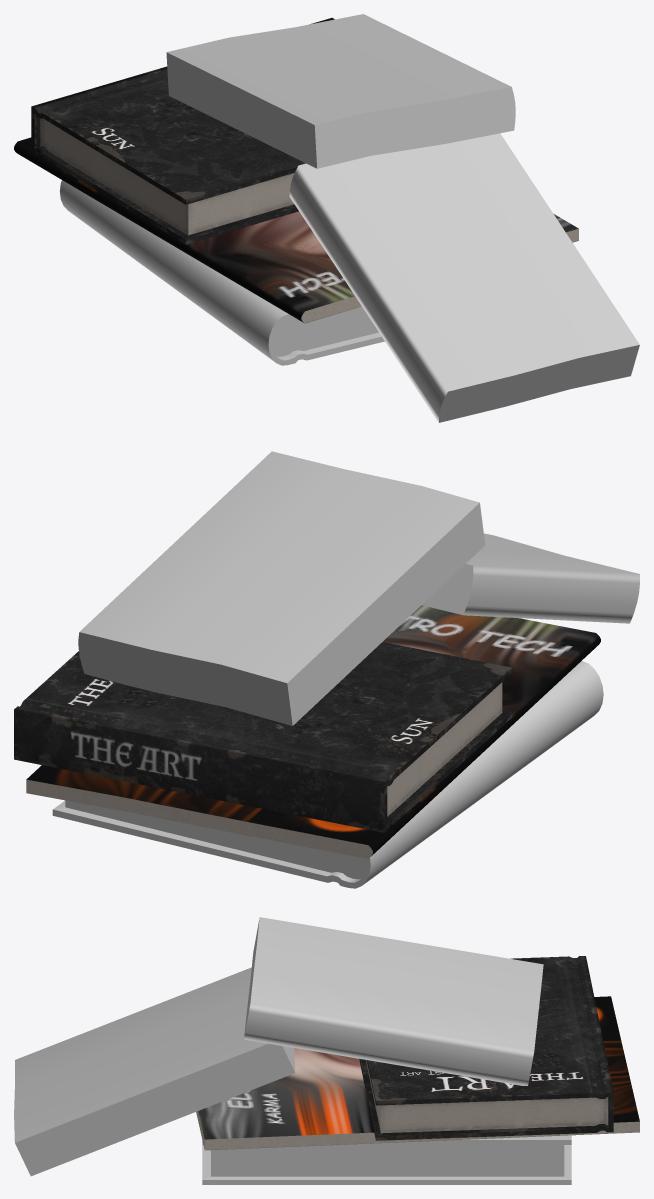
The model's file is SM_Book_Stack_05.FBX.
3 views of the same model, one above another, from view 1: azimuth 30°, elevation 25°; view 2: azimuth 150°, elevation 25°; view 3: azimuth 270°, elevation 25° (orthographic). The views are drawn at different scales.
Parts seen in each view (by area): view 1: SM_Book_Stack_05_LOD0; view 2: SM_Book_Stack_05_LOD0; view 3: SM_Book_Stack_05_LOD0.
Part boxes in pixels (bbox=[...]): SM_Book_Stack_05_LOD0: bbox=[14, 14, 639, 422]; SM_Book_Stack_05_LOD0: bbox=[14, 451, 639, 888]; SM_Book_Stack_05_LOD0: bbox=[14, 917, 639, 1184].
Size of what is drawn, in the model's own units: 29.98 by 54.04 by 17.11.
